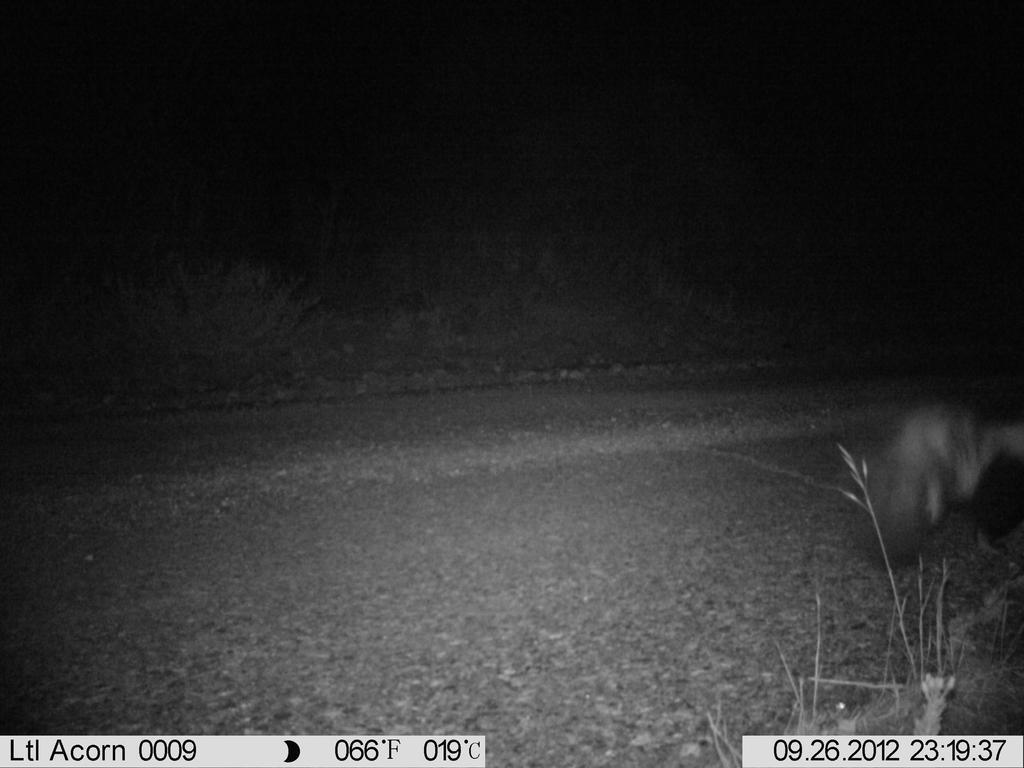skunk: (843, 386, 1023, 584)
